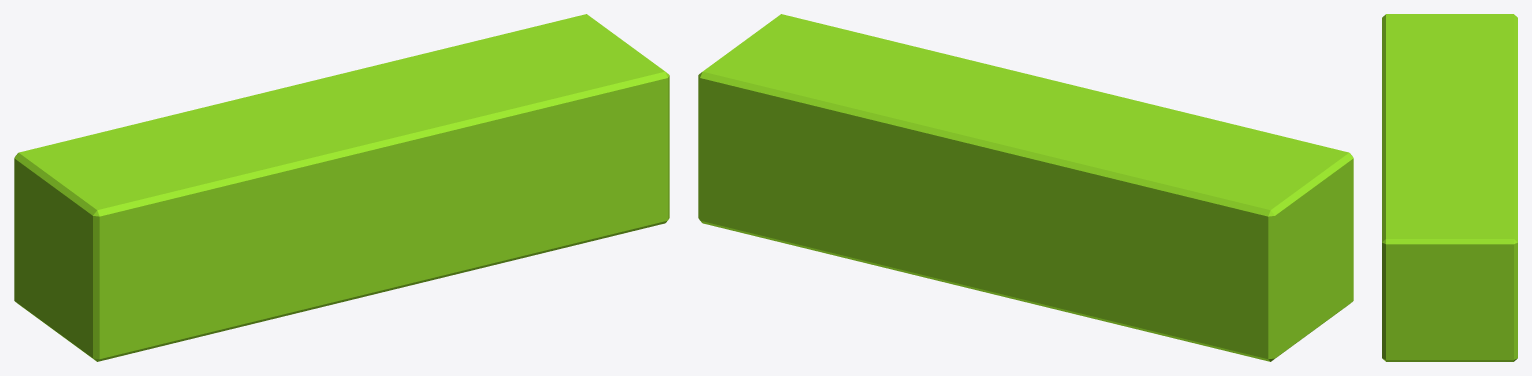
Rendered from BushLong.fbx.
3 renders of one model, left to right at view 1: azimuth 30°, elevation 25°; view 2: azimuth 150°, elevation 25°; view 3: azimuth 270°, elevation 25°, orthographic. The views are drawn at different scales.
Visible parts, largest first — view 1: Cube.114; view 2: Cube.114; view 3: Cube.114.
Part boxes in pixels (left/top/right/bottom): Cube.114: left=14, top=14, right=669, bottom=361; Cube.114: left=698, top=14, right=1353, bottom=361; Cube.114: left=1382, top=14, right=1517, bottom=361.
Size of the model in its own units: 1.99 by 0.5 by 0.5.
